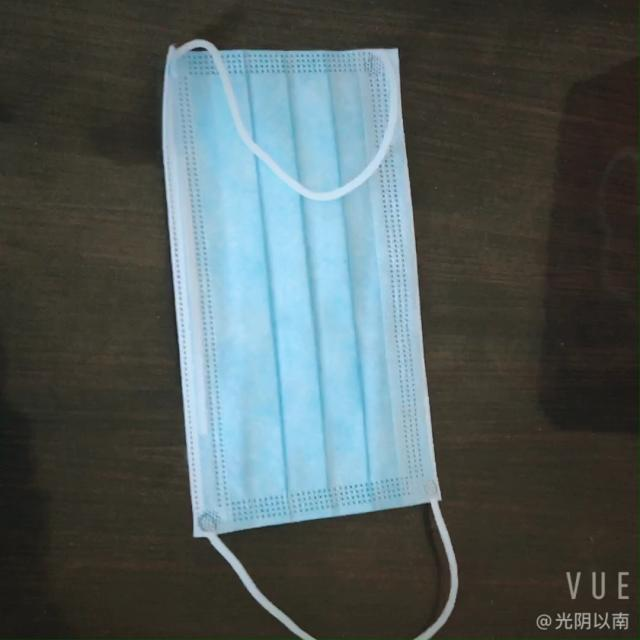non-organic waste: (161, 36, 428, 544)
